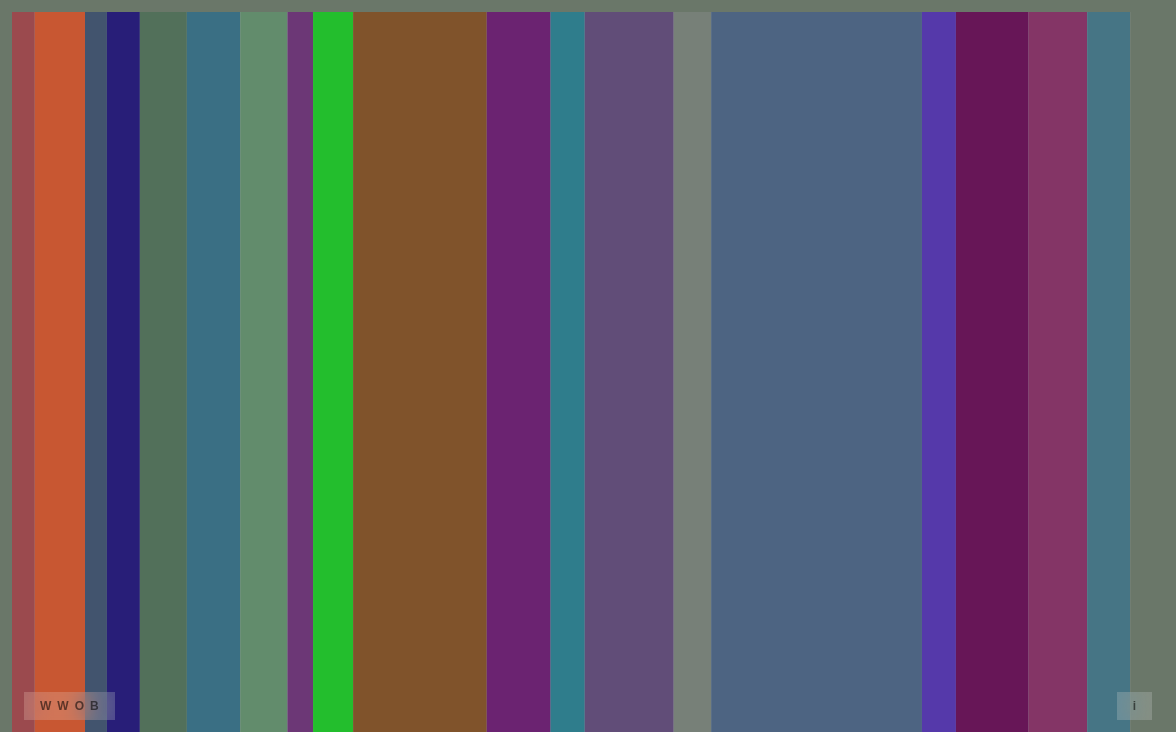
Scenario: reader app › omits the run line for a one-off show
Click the button "i". click: (1134, 706)
box: [1117,692,1152,720]
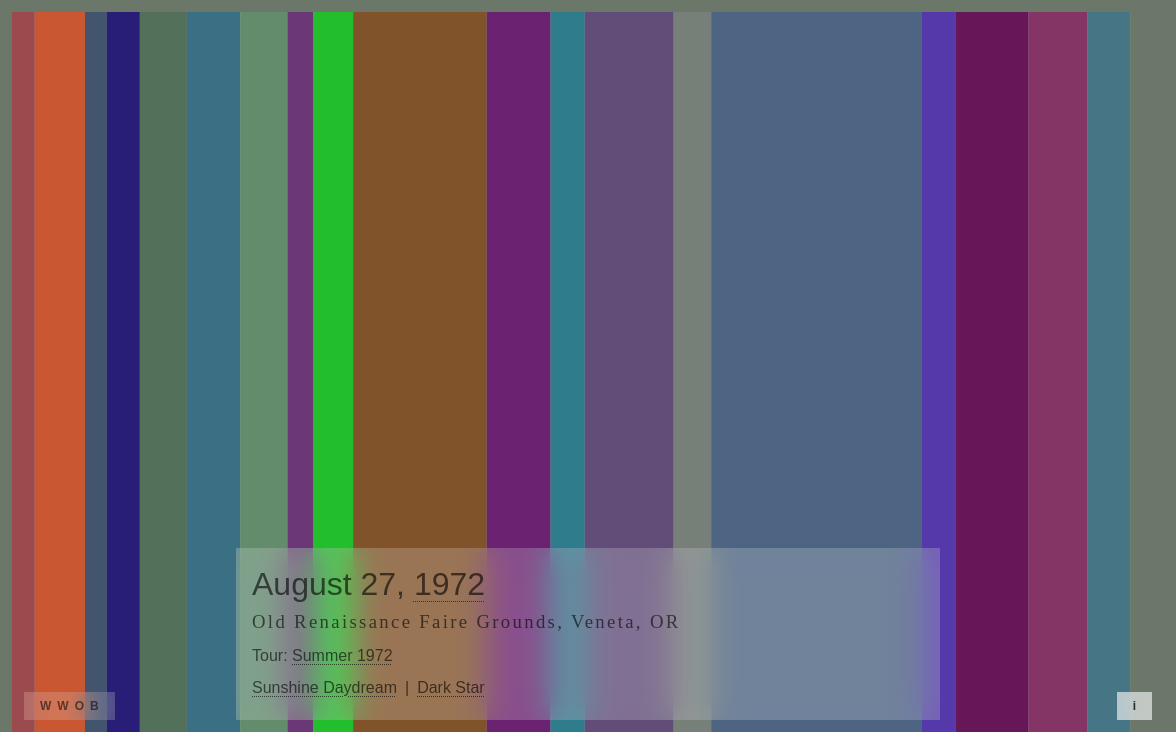
Check: the links read "1972", "Summer 1972", "Sunshine Daydream", "Dark Star", in this order, box [414,566,485,602]; [292,647,392,664]; [252,679,397,696]; [417,679,485,696]
